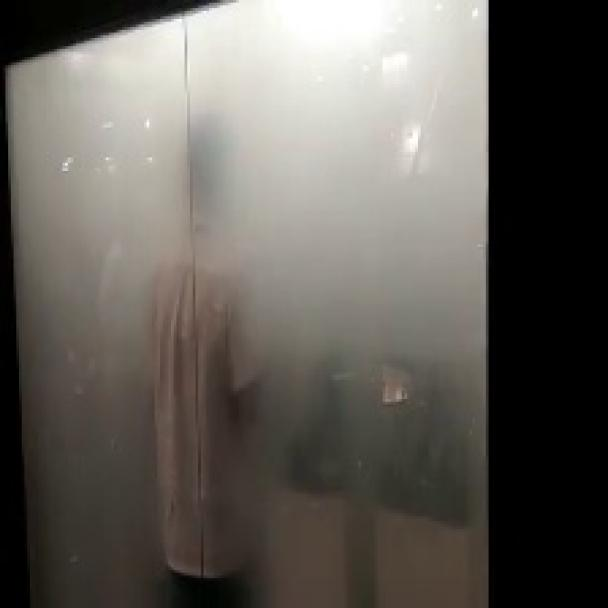smoke: (0, 2, 481, 606)
